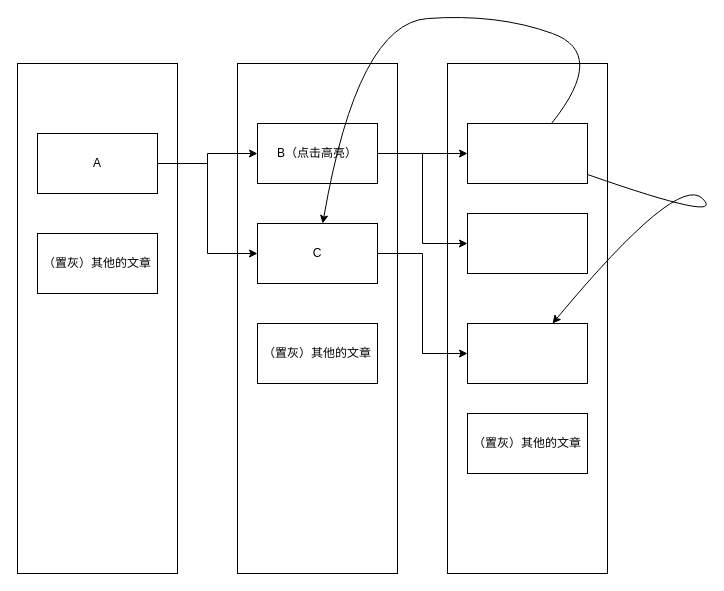
The diagram is 724 pixels wide and 591 high, and some of its shapes have lost their labels. The shapes that lost their labels are listed below. From the top down, each one's centre as x and y in pixels, then its label:
[527,153]: B1
[527,243]: B2
[527,353]: C1
